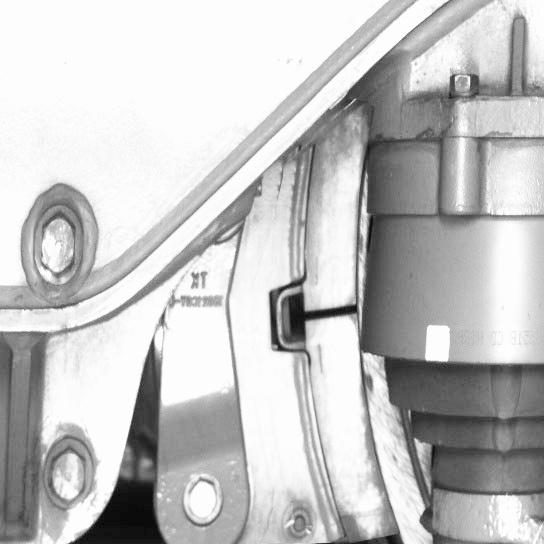ClosedKnifeSwitch: (283, 139, 404, 540)
